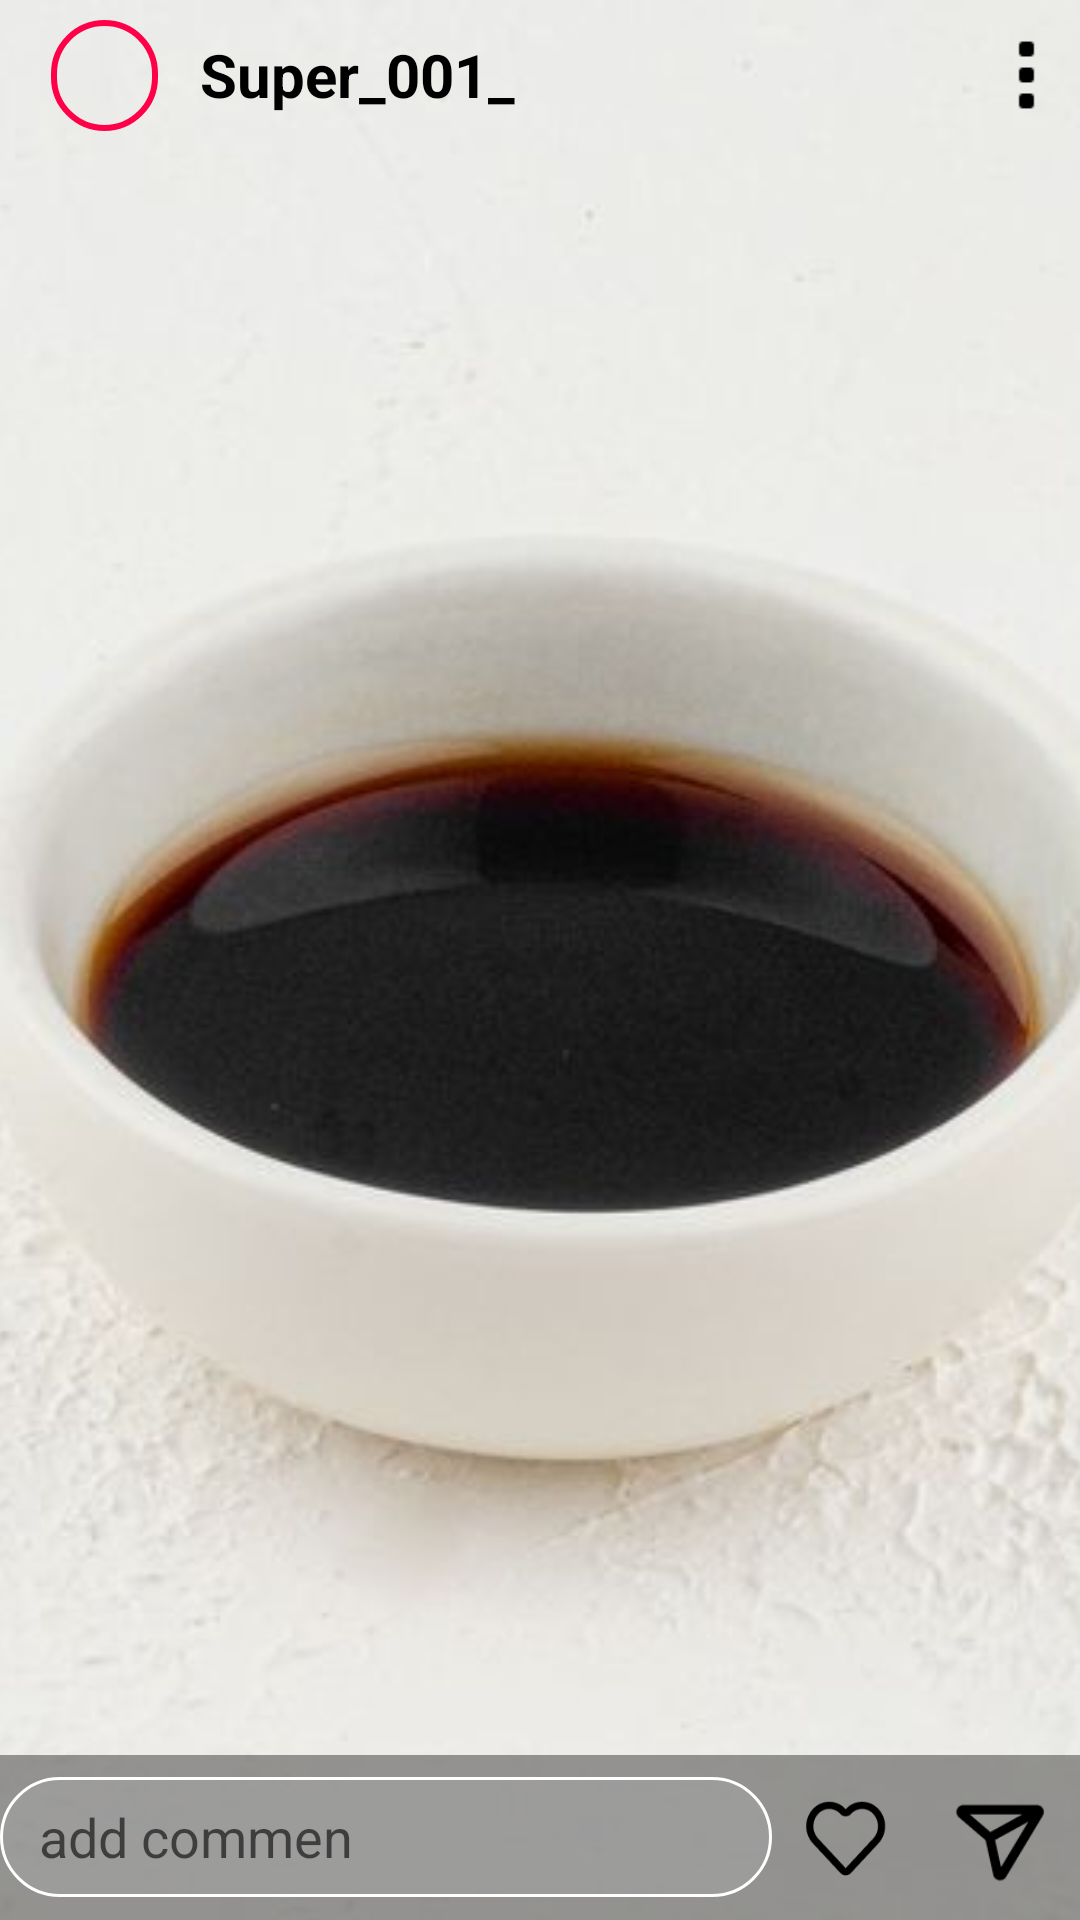

Locate icon controls on the screen. Image size 1080 x 1920, boxes as BBox(x1, y1, x2, y2).
like: BBox(806, 1801, 886, 1876)
share: BBox(956, 1804, 1044, 1881)
vertical: BBox(1018, 41, 1035, 109)
